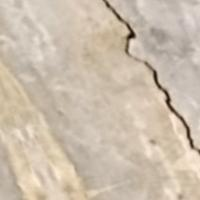crack: (98, 0, 199, 159)
